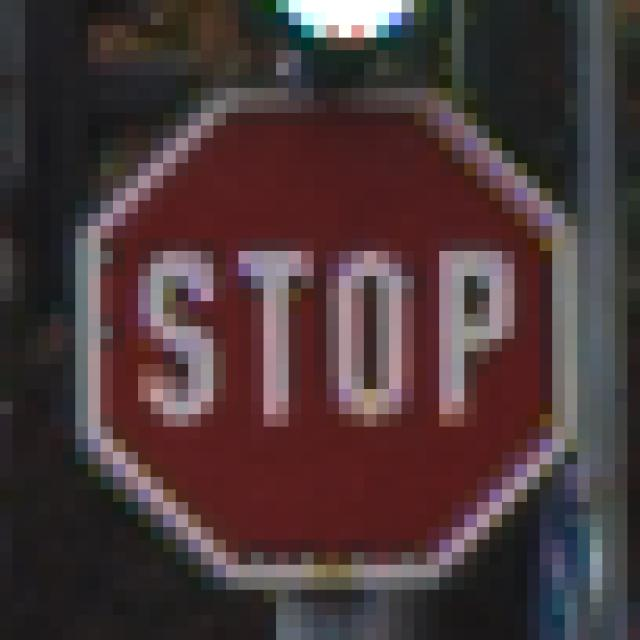STOP: (64, 64, 566, 578)
